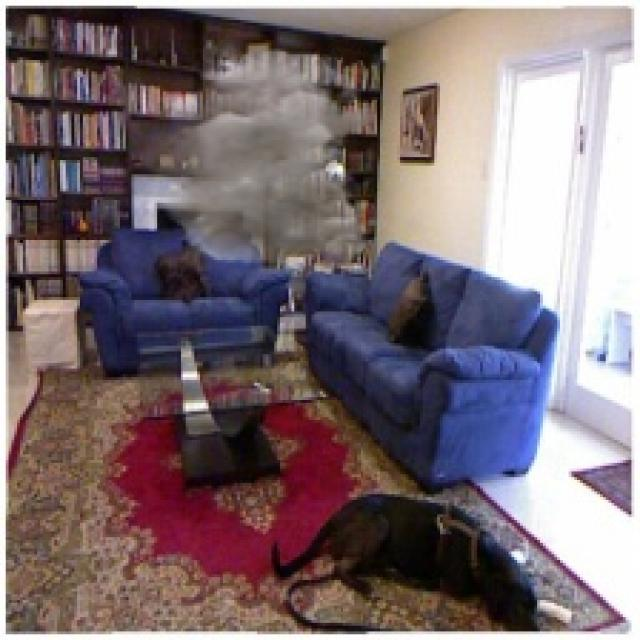smoke: (134, 49, 380, 274)
